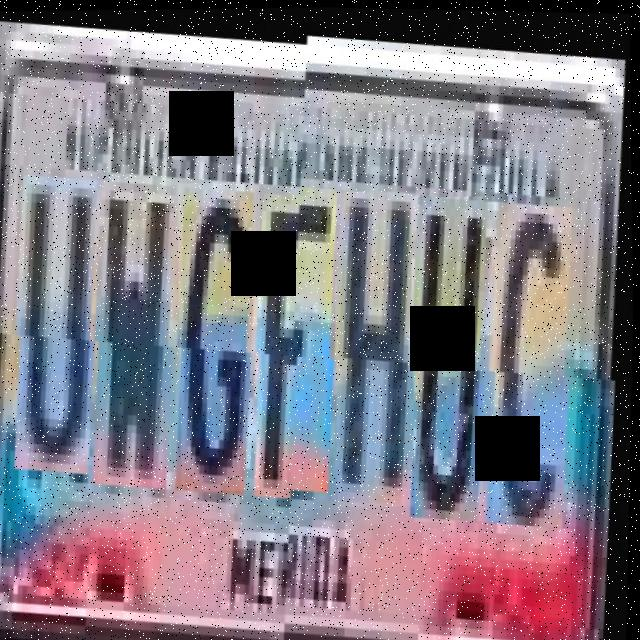C: (485, 195, 589, 526)
F: (250, 184, 355, 495)
G: (173, 179, 271, 491)
H: (329, 187, 433, 508)
U: (406, 192, 507, 521), (12, 171, 114, 475)
W: (89, 175, 193, 487)
